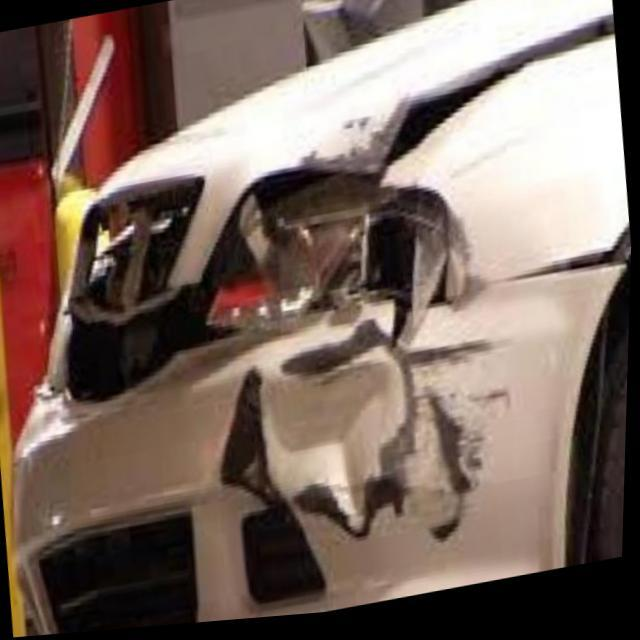no part: (65, 27, 623, 620)
